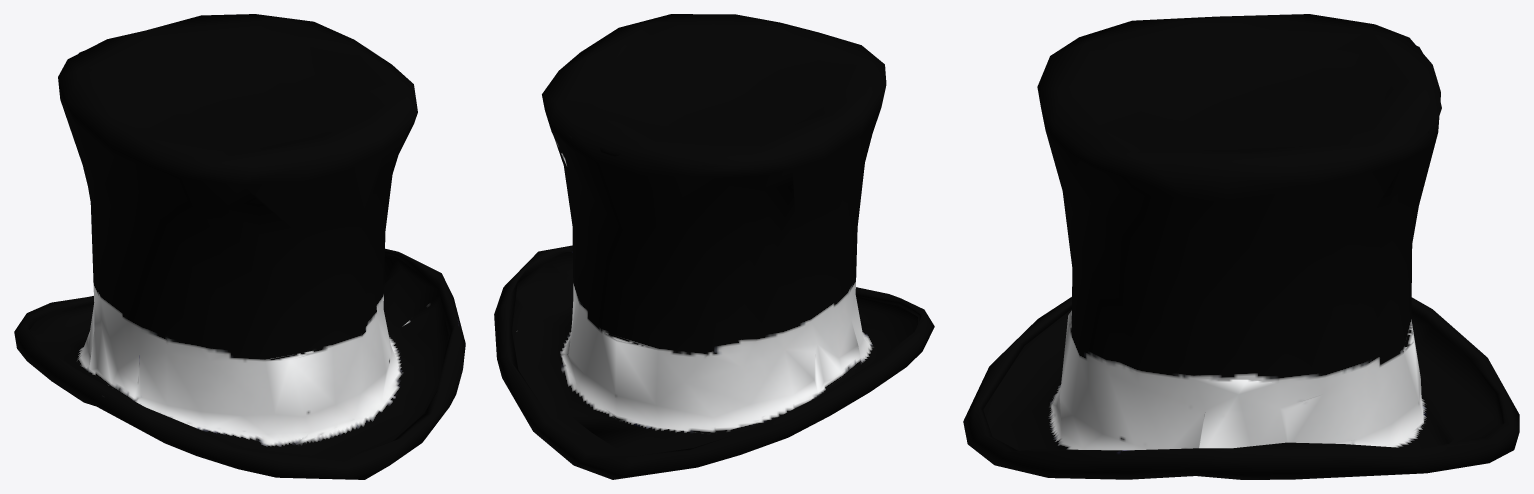
Rendered from hat-tophat.glb.
The picture shows the model from 3 angles, left to right: view 1: azimuth 30°, elevation 25°; view 2: azimuth 150°, elevation 25°; view 3: azimuth 270°, elevation 25°; orthographic projection. The views are drawn at different scales.
Visible parts, largest first — view 1: Body; view 2: Body; view 3: Body.
Part boxes in pixels (x1,y1,x2,y2): Body: (14, 14, 465, 479); Body: (494, 14, 934, 479); Body: (963, 14, 1519, 479).
Bounding box in the file's own units: 0.8996 × 0.7031 × 0.9889.
1 material, 1 textured.
